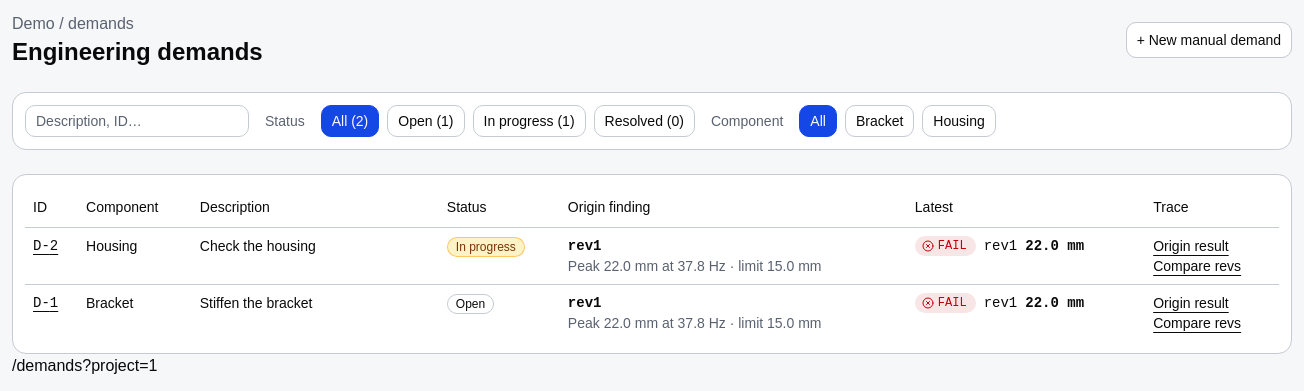
Scenario: puts a filter change in the URL and filters the table
The width and height of the screenshot is (1304, 391).
Click the radio button labelled "Open (1)": (426,121) [387,105,465,137]
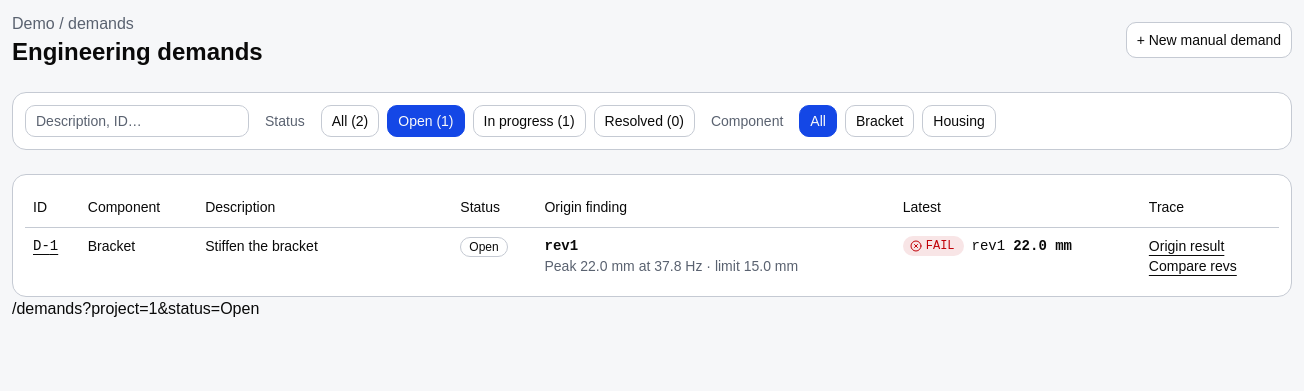
expect the row "D-1" is shown: met, box [25,227,1279,284]
expect the text with test id "url" reads "/demands?project=1&status=Open": met, box [12,300,259,316]
expect the link "D-2" is gone: met
Click the radio button labelled "Housing": (959,121) [922,105,996,137]
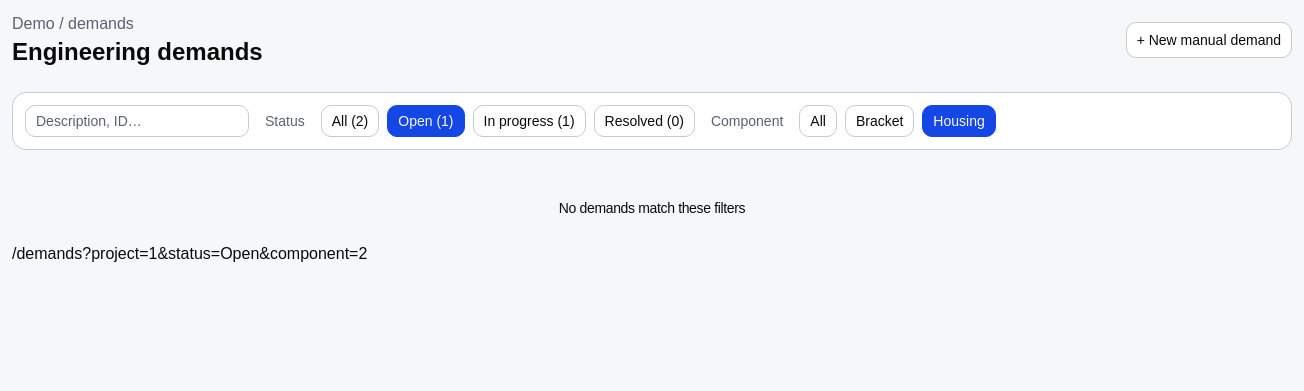
expect the text with test id "url" reads "/demands?project=1&status=Open&component=2": met, box [12,245,367,262]
expect the text "No demands match these filters" is shown: met, box [559,198,745,218]
In the search field named "Search": (137,121) [25,105,249,137], type "peak"
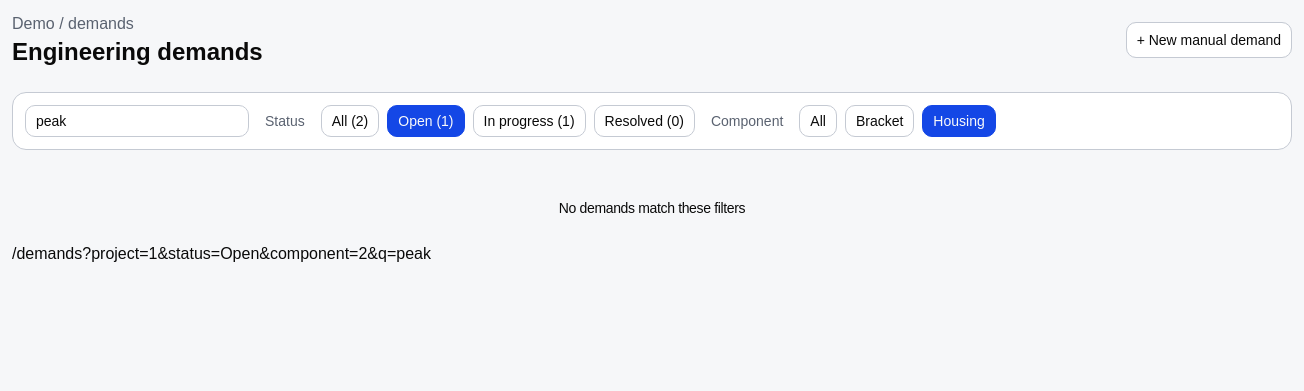
expect the text with test id "url" shows "q=peak": met, box [12,245,431,262]
text search narrows the rows too
Click the radio button labelled "All (2)": (350,121) [321,105,379,137]
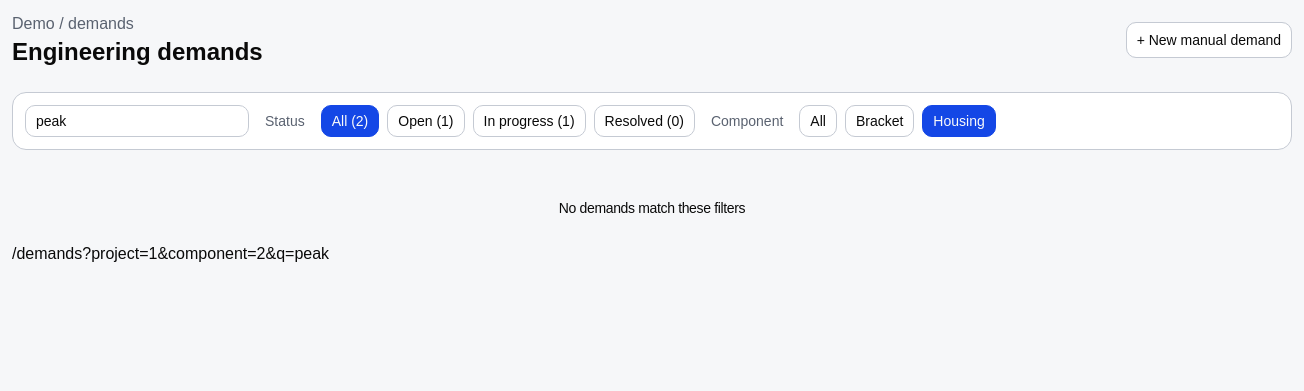
Click the radio button labelled "All": (818,121) [799,105,837,137]
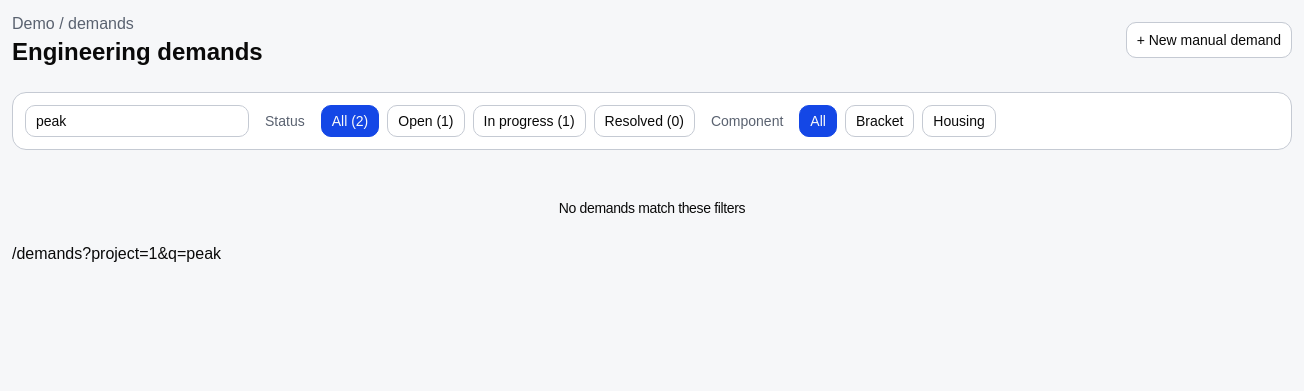
Replace the text in the search field named "Search" with "housing": (137,121) [25,105,249,137]
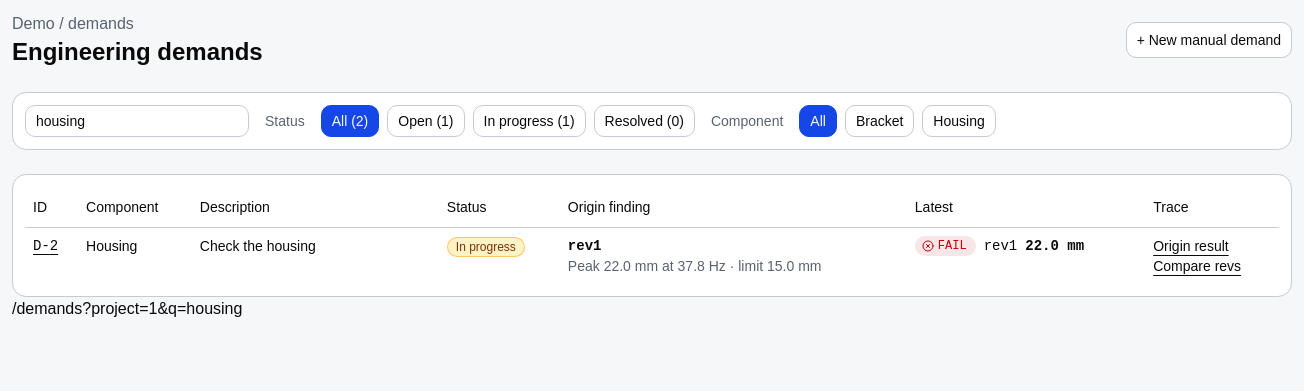
expect the link "D-1" is not shown: met
expect the row "D-2" is shown: met, box [25,227,1279,284]
